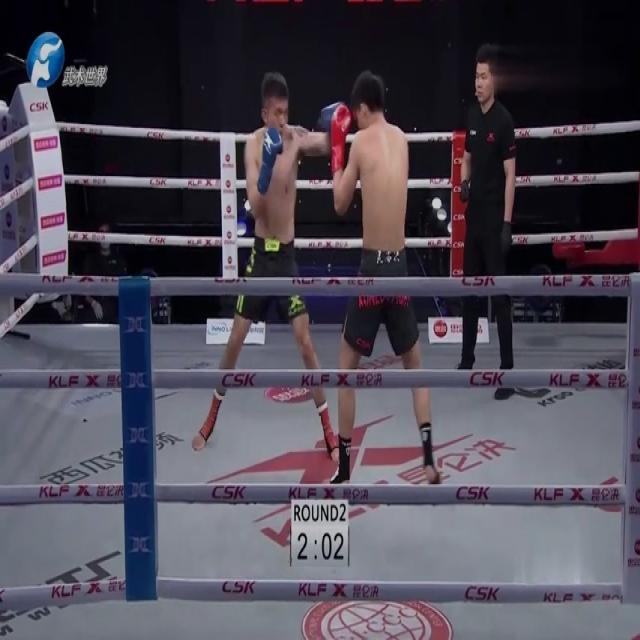fight: (190, 74, 442, 494)
non-fight: (454, 39, 516, 402)
